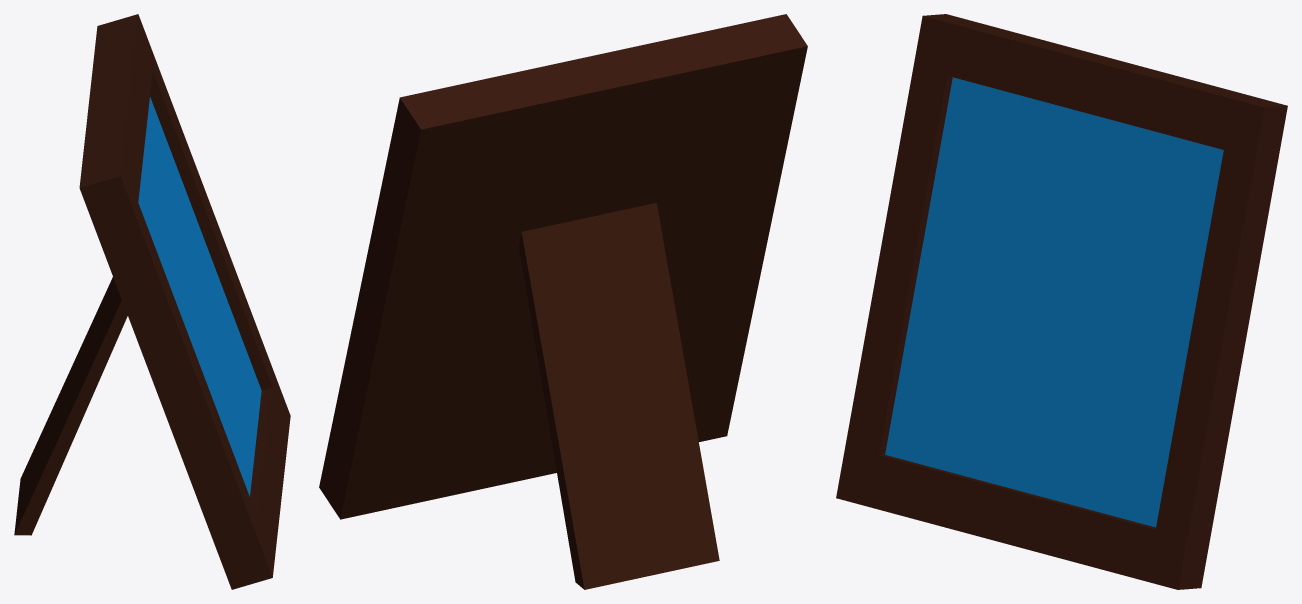
Rendered from 2021photoframe.fbx.
3 views of the same model, side by side, from view 1: azimuth 30°, elevation 25°; view 2: azimuth 150°, elevation 25°; view 3: azimuth 270°, elevation 25° (orthographic). The views are drawn at different scales.
Visible parts, largest first — view 1: Cube.012; view 2: Cube.012; view 3: Cube.012.
Part boxes in pixels (x1,y1,x2,y2): Cube.012: [14, 14, 290, 589]; Cube.012: [319, 14, 807, 589]; Cube.012: [836, 14, 1287, 589].
Bounding box in the file's own units: 34.96 × 43.27 × 40.21.
